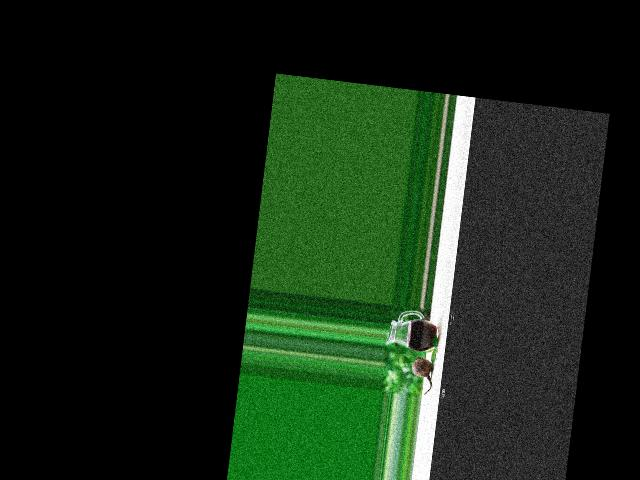beet: (409, 356, 435, 394)
